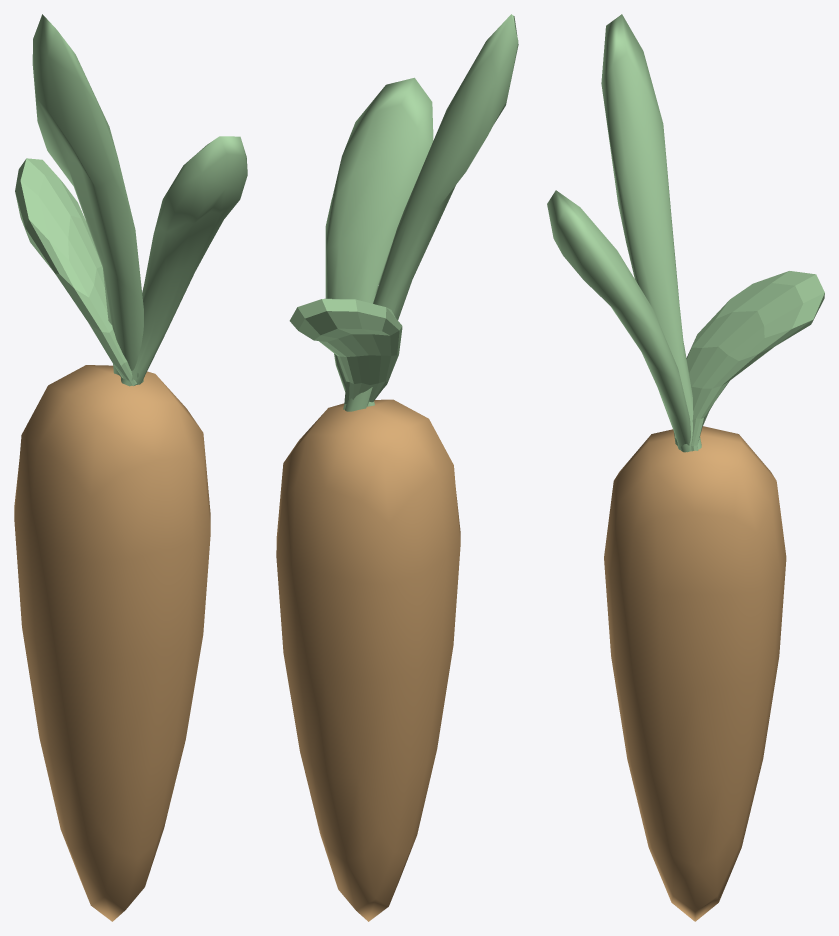
Rendered from carrot.fbx.
3 views of the same model, side by side, from view 1: azimuth 30°, elevation 25°; view 2: azimuth 150°, elevation 25°; view 3: azimuth 270°, elevation 25° (orthographic). The views are drawn at different scales.
Visible parts, largest first — view 1: Cube, Cube.003, Cube.001, Cube.002; view 2: Cube, Cube.001, Cube.003, Cube.002; view 3: Cube, Cube.003, Cube.002, Cube.001.
Part boxes in pixels (x1=…): Cube: x1=14, y1=365, x2=210, y2=921; Cube.003: x1=32, y1=14, x2=143, y2=382; Cube.001: x1=121, y1=136, x2=247, y2=386; Cube.002: x1=15, y1=158, x2=136, y2=386; Cube: x1=276, y1=399, x2=460, y2=921; Cube.001: x1=325, y1=77, x2=433, y2=406; Cube.003: x1=345, y1=14, x2=518, y2=411; Cube.002: x1=289, y1=298, x2=402, y2=409; Cube: x1=604, y1=426, x2=786, y2=921; Cube.003: x1=601, y1=14, x2=701, y2=452; Cube.002: x1=674, y1=271, x2=824, y2=451; Cube.001: x1=547, y1=190, x2=690, y2=449.
Bounding box in the file's own units: 106 × 482 × 141.
